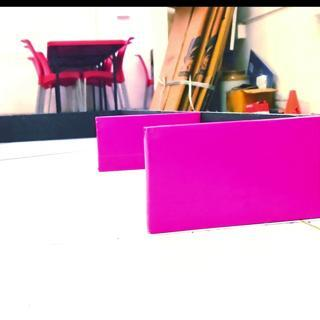xparking: (148, 127, 320, 228), (97, 116, 143, 170)
